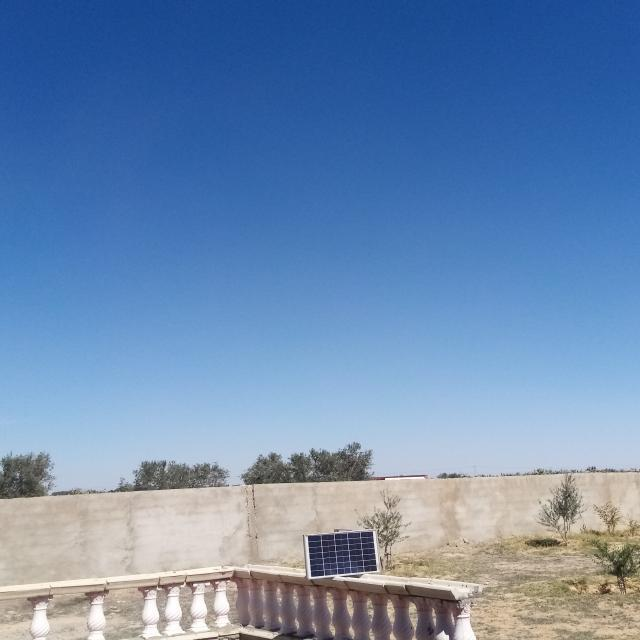no faulty: (305, 530, 381, 579)
